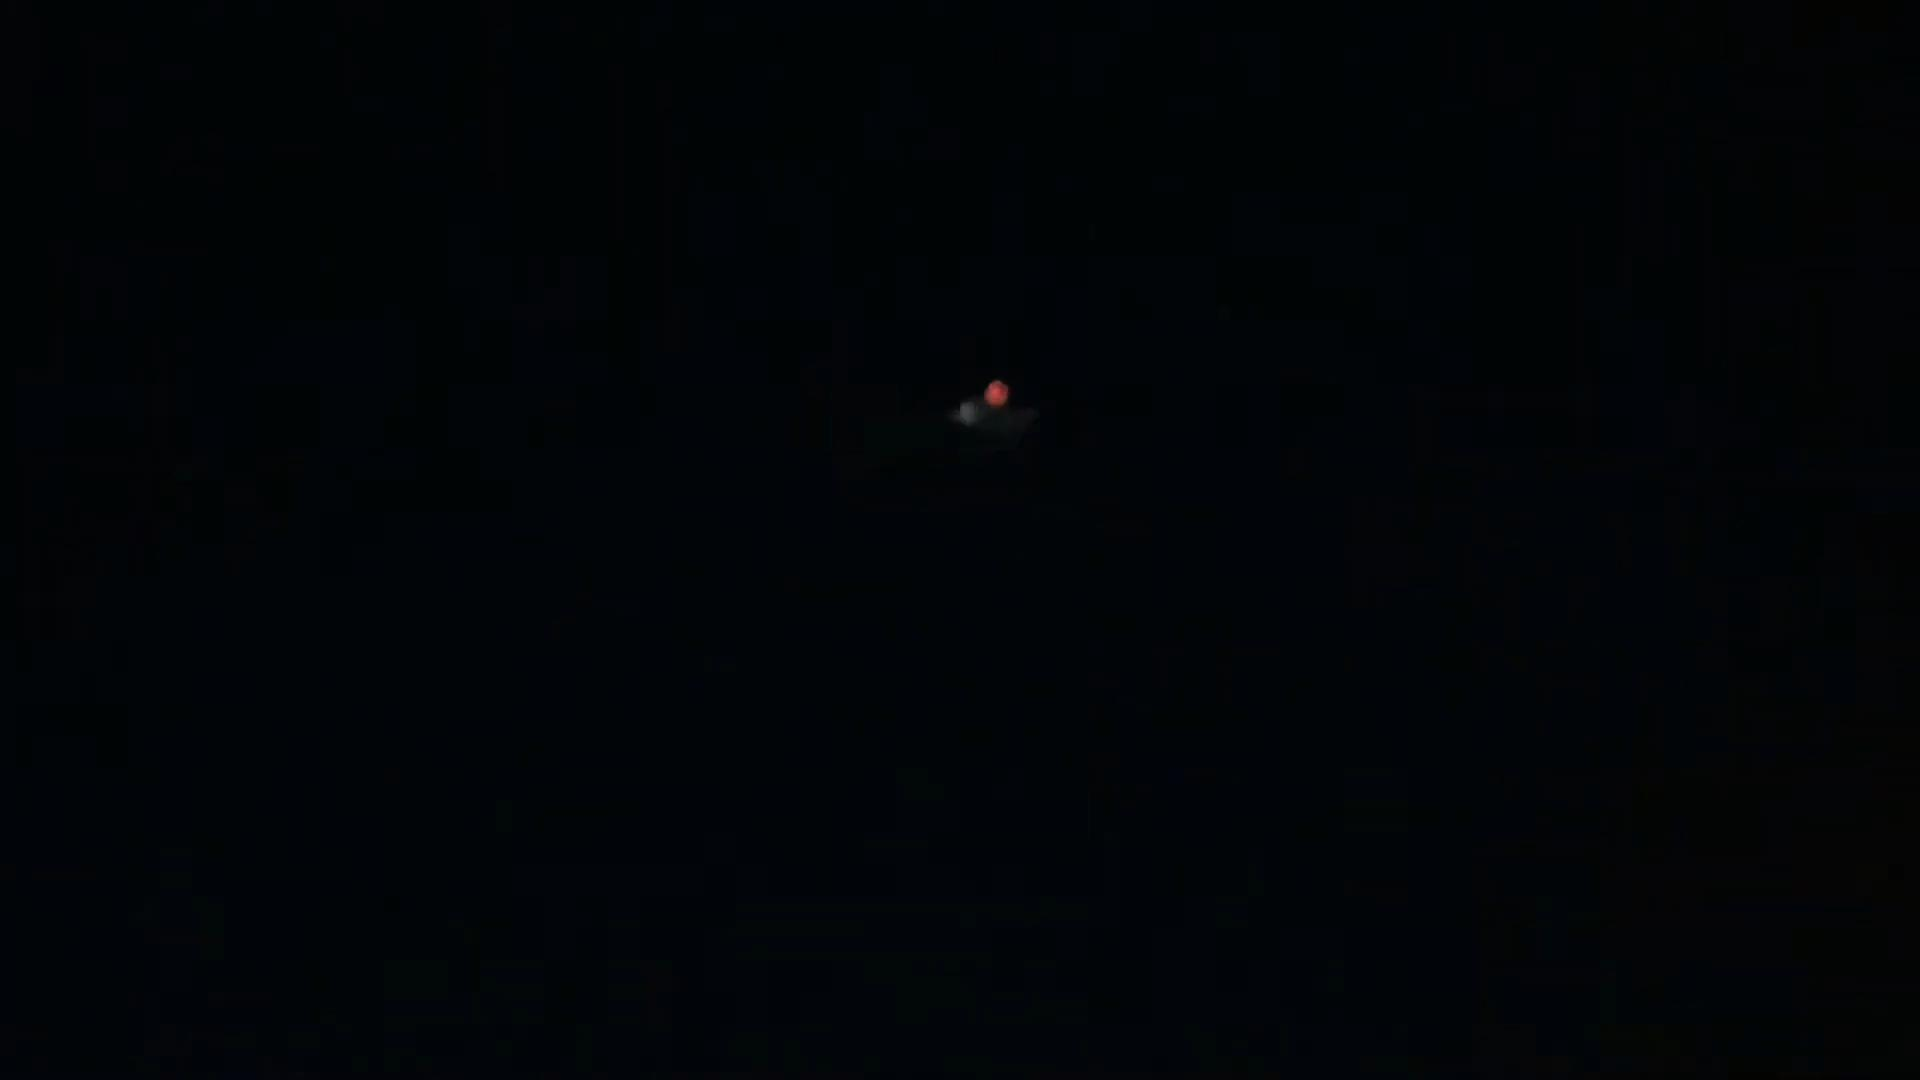Plane: (901, 356, 1097, 452)
